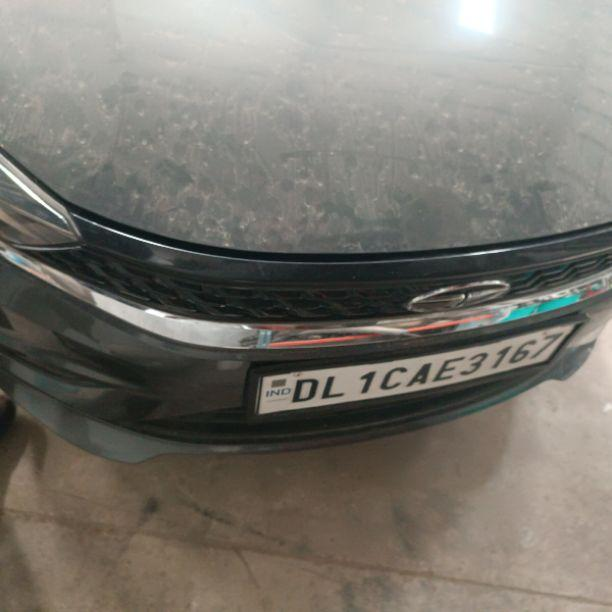license_plate: (244, 310, 589, 419)
